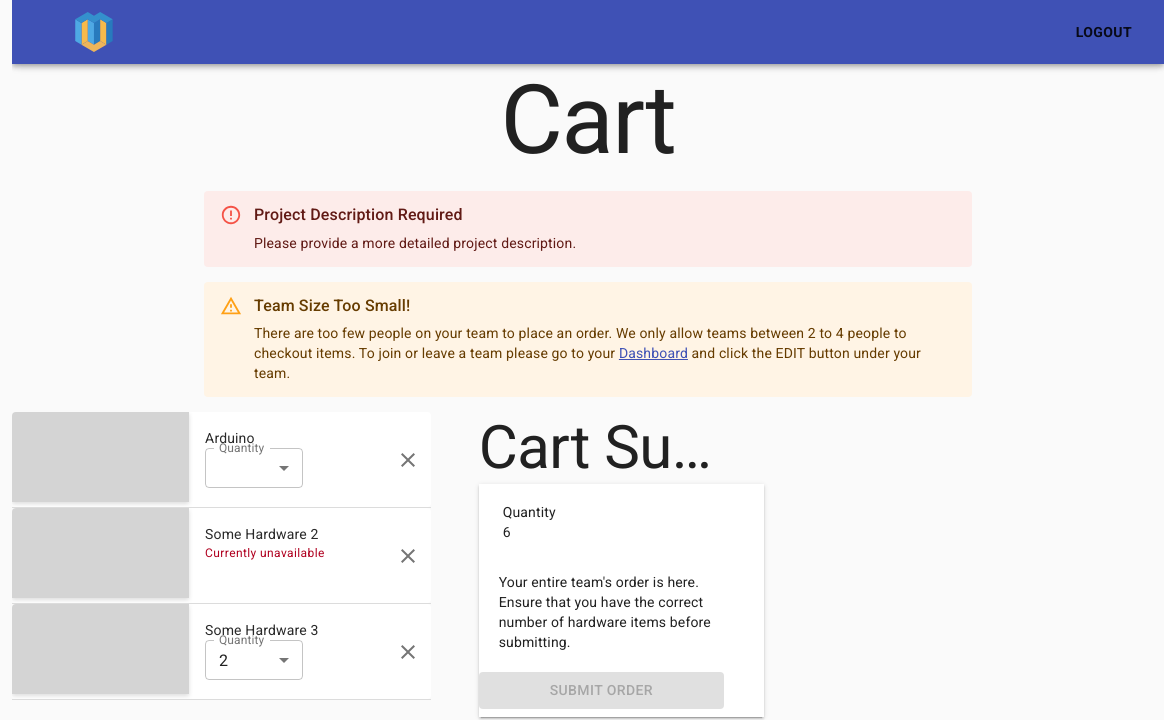
Test: Cart Page › removeFromCart button
Step 1. Click the button without text below "Some Hardware 3" → (408, 652), box [393,637,423,667]
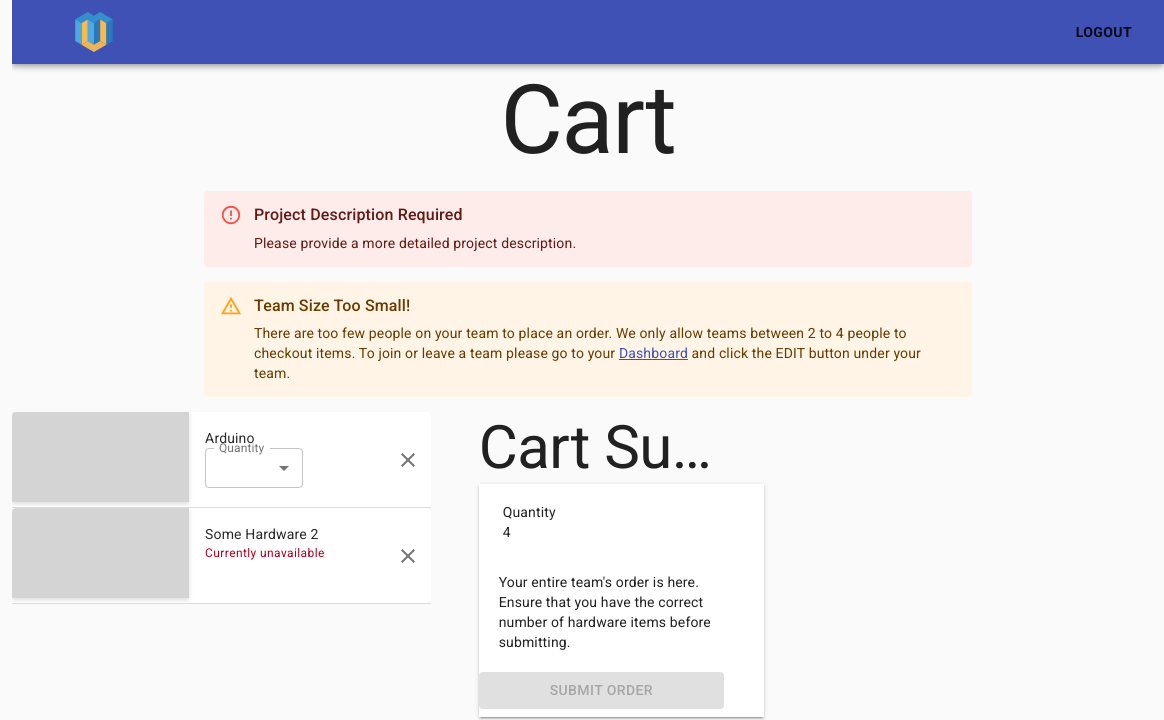
Expected: the text "Some Hardware 2" is shown, [205,526,318,542]
Now the text "Some Hardware 3" is gone
